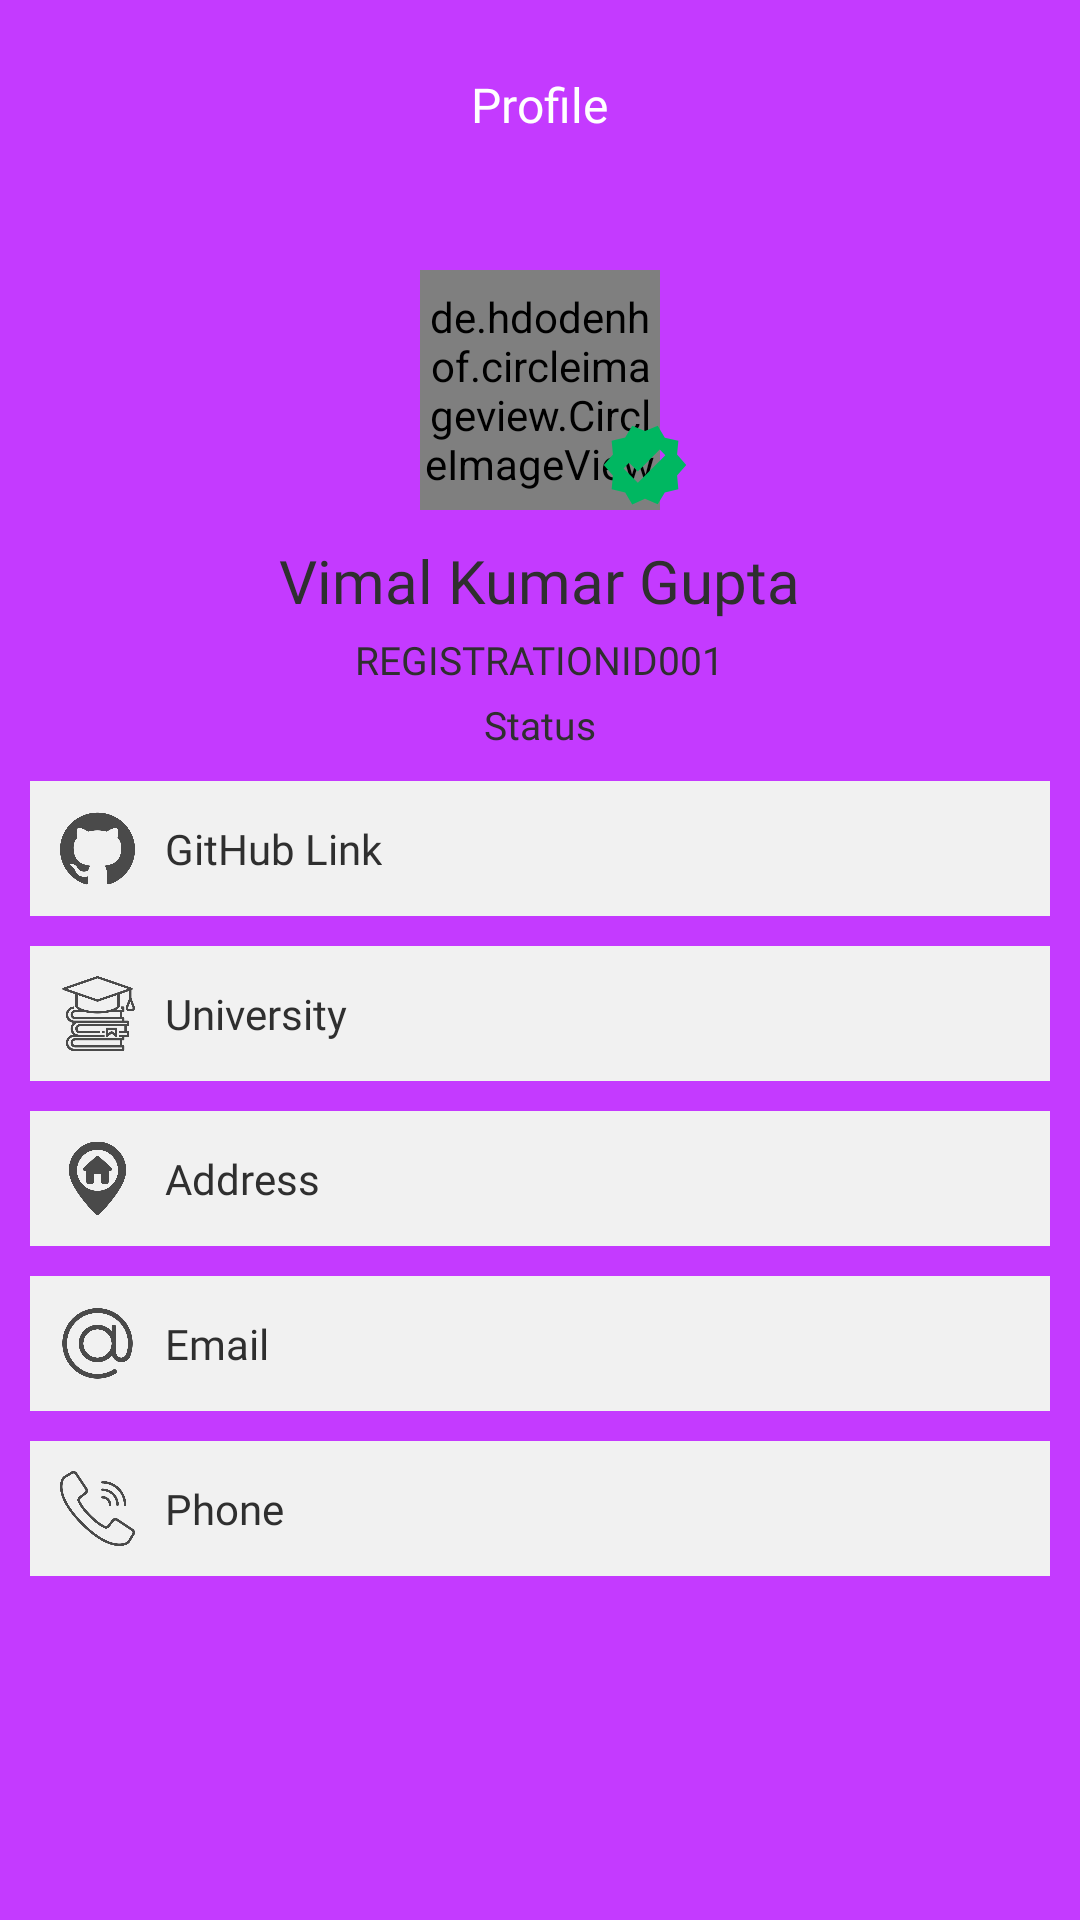

Screen size 1080 x 1920. Icon name, then its center in pixels as (x,y):
call number: (97,1508)
verified: (645,465)
